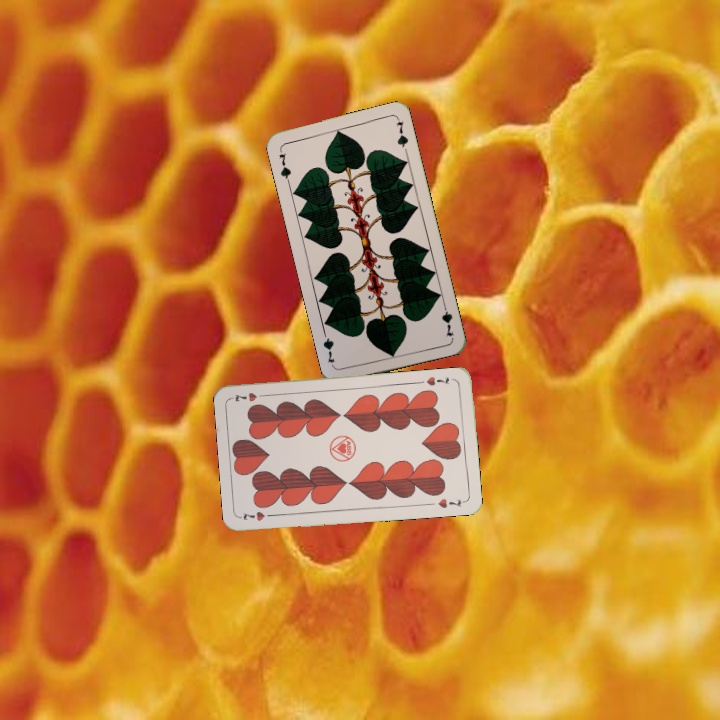G7: (275, 145, 294, 185), (438, 299, 456, 339)
H7: (239, 508, 278, 523), (422, 373, 452, 389)
